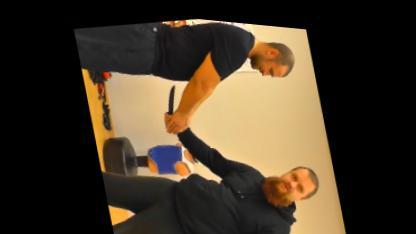knife: (156, 79, 186, 134)
